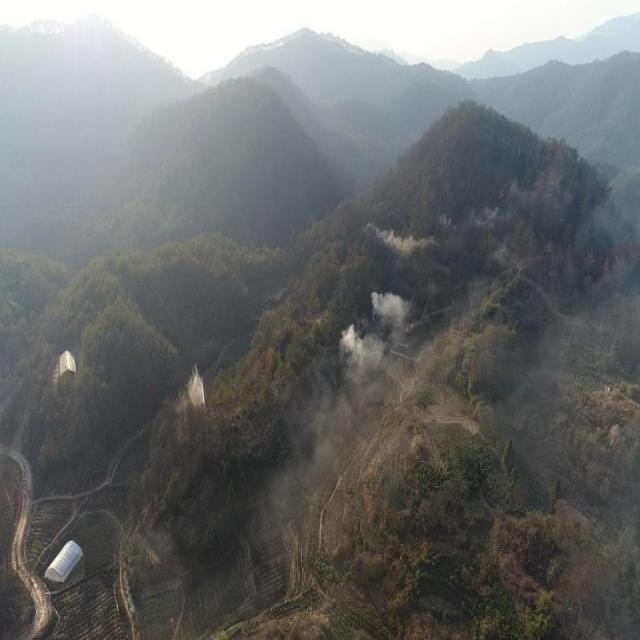Smoke: (274, 292, 416, 502), (363, 216, 437, 258), (173, 361, 203, 412)
